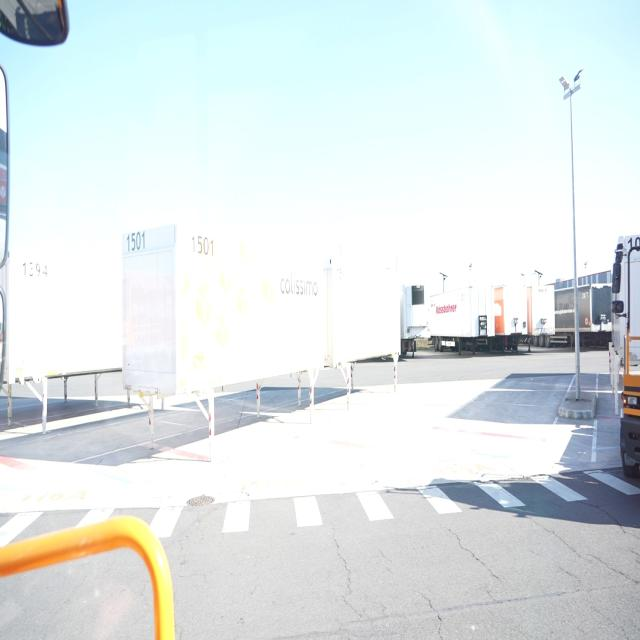Code: (189, 230, 216, 262), (17, 256, 50, 282), (124, 228, 149, 254)
